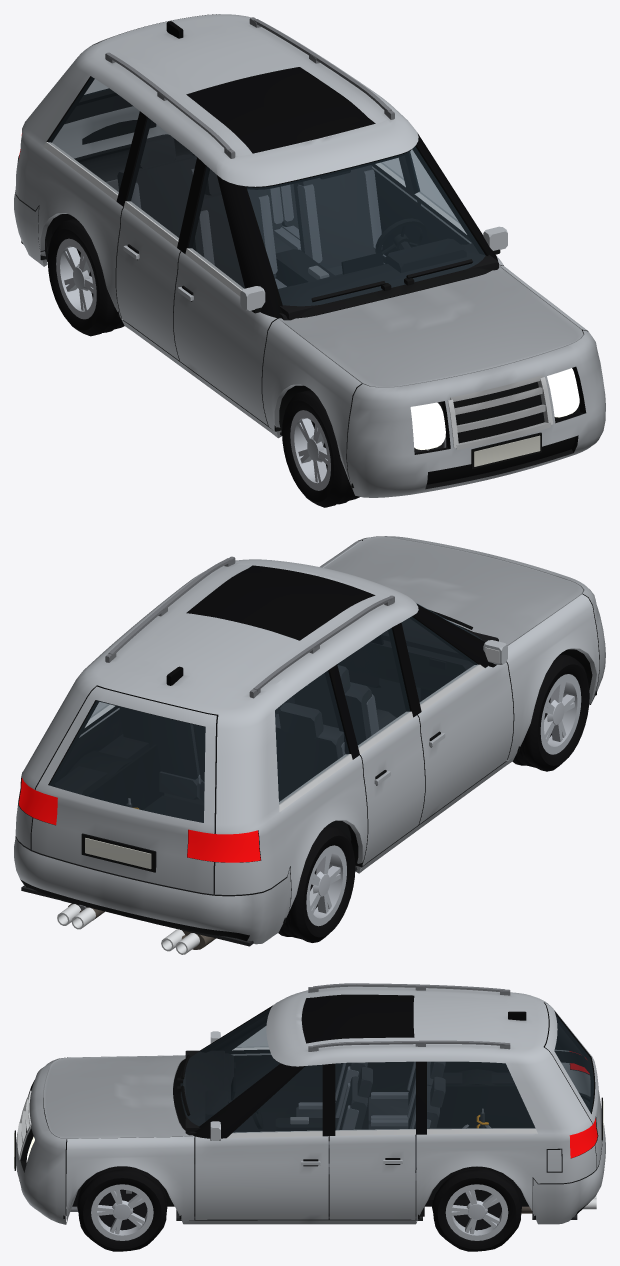
Rendered from glug_2017.glb.
3 renders of one model, top to bottom at view 1: azimuth 30°, elevation 25°; view 2: azimuth 150°, elevation 25°; view 3: azimuth 270°, elevation 25°, orthographic. The views are drawn at different scales.
Visible parts, largest first — view 1: body, glass, interior, bumper_front, trim, bonnet, wheel_rr, wheel_fr, chrome, underside, headlight_r, bumper_rear (+1 smaller); view 2: body, glass, interior, trim, bonnet, bumper_rear, underside, chrome, wheel_fr, wheel_rr, taillights, bumper_front; view 3: body, glass, interior, trim, bonnet, wheel_fl, wheel_rl, bumper_front, underside, chrome, bumper_rear, taillights.
Boxes of the visible parts, box(x1,y1,x2,y2) form: body: box(15, 14, 587, 484); glass: box(48, 77, 485, 305); interior: box(52, 93, 499, 320); bumper_front: box(347, 330, 605, 497); trim: box(18, 14, 587, 493); bonnet: box(278, 266, 583, 387); wheel_rr: box(47, 219, 124, 336); wheel_fr: box(282, 390, 359, 507); chrome: box(43, 17, 466, 296); underside: box(21, 139, 580, 487); headlight_r: box(410, 402, 445, 449); bumper_rear: box(14, 138, 174, 266); body: box(15, 540, 599, 910); glass: box(49, 603, 481, 822); interior: box(52, 618, 498, 892); trim: box(18, 565, 514, 911); bonnet: box(323, 537, 583, 645); bumper_rear: box(14, 836, 290, 944); underside: box(21, 649, 596, 949); chrome: box(57, 556, 484, 954); wheel_fr: box(512, 654, 589, 771); wheel_rr: box(278, 826, 355, 942); taillights: box(19, 778, 260, 862); bumper_front: box(358, 536, 605, 704); body: box(66, 986, 602, 1224); glass: box(181, 1008, 593, 1132); interior: box(173, 1014, 589, 1216); trim: box(46, 994, 603, 1220); bonnet: box(43, 1055, 194, 1140); wheel_fl: box(77, 1166, 167, 1251); wheel_rl: box(432, 1168, 521, 1251); bumper_front: box(14, 1057, 66, 1224); underside: box(43, 1069, 589, 1220); chrome: box(227, 983, 596, 1209); bumper_rear: box(532, 1094, 605, 1224); taillights: box(569, 1051, 597, 1158).
Size of the model in its own units: 1.98 by 1.86 by 5.14.
